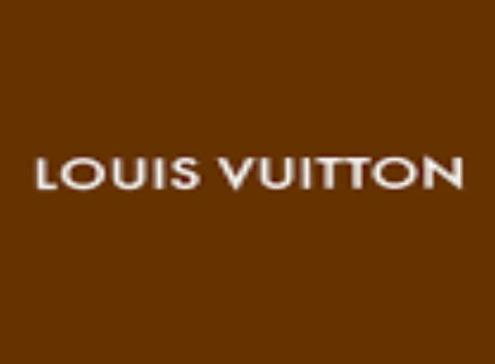LOUIS-VUITTON: (26, 135, 471, 203)
